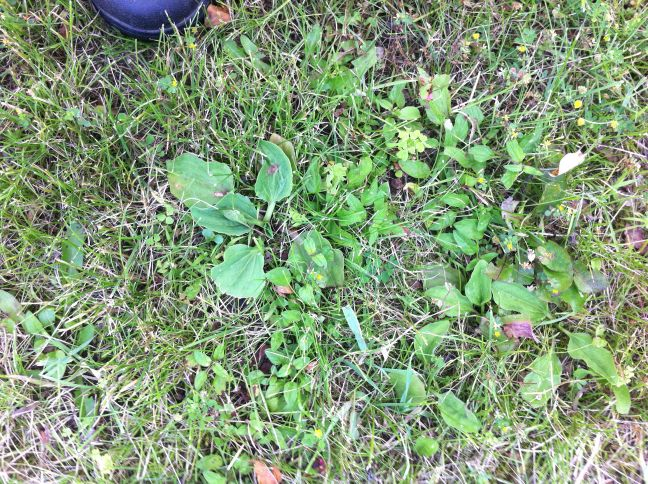weed1: (164, 147, 343, 300), (479, 271, 622, 416), (371, 318, 482, 454)
